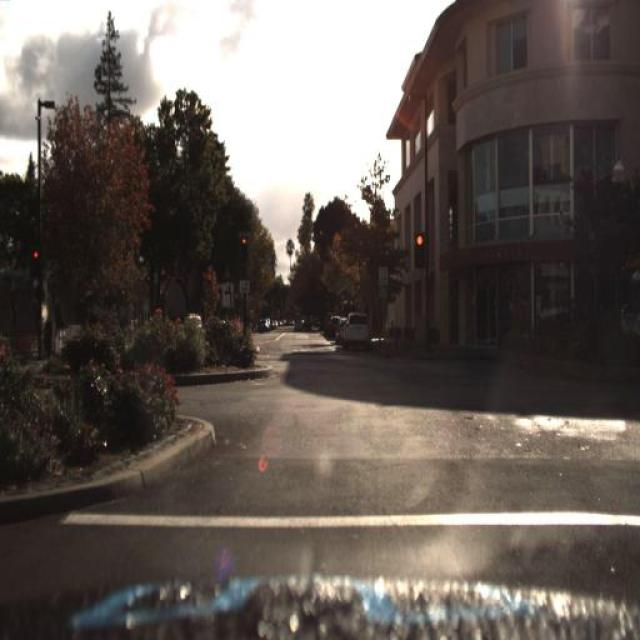car: (338, 314, 370, 358)
trafficLight: (566, 297, 582, 353)
trafficLight-Green: (28, 234, 44, 278)
trafficLight-RedLeft: (233, 224, 251, 264), (412, 235, 427, 276), (28, 250, 36, 286)
trafficLight-Yellow: (239, 231, 250, 268)
